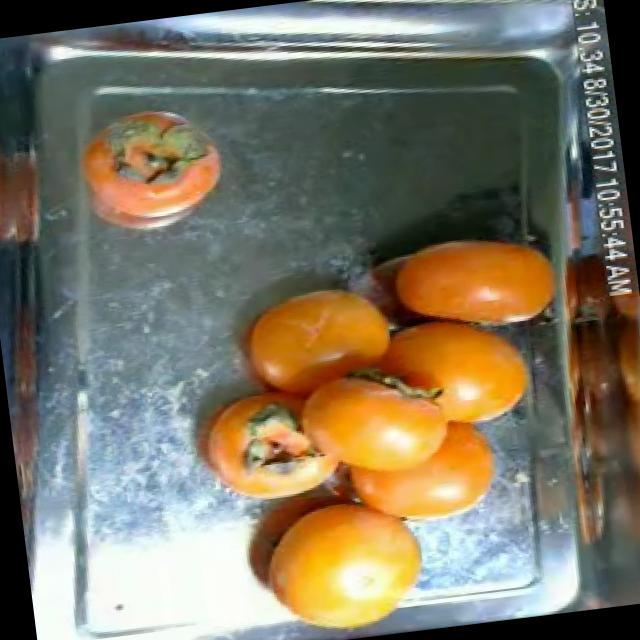Fruit: (227, 475, 450, 640), (367, 210, 574, 337), (350, 400, 520, 540), (0, 136, 69, 259)
